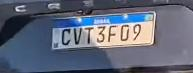Placa_mercosul_carro: (51, 10, 156, 51)
